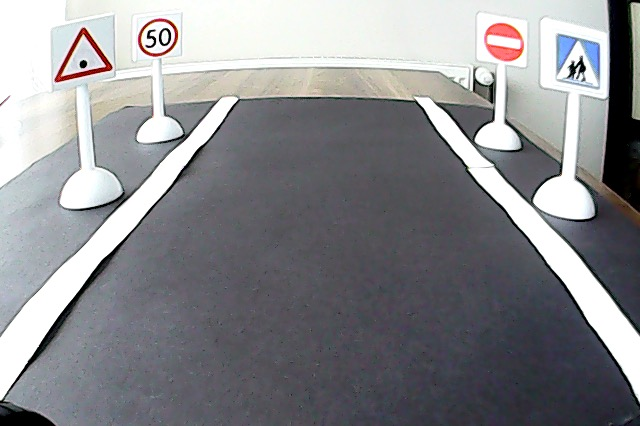do not enter: (480, 18, 527, 65)
green light: (50, 22, 115, 85)
school crossing: (550, 26, 605, 94)
speed limit 50: (134, 16, 181, 60)
